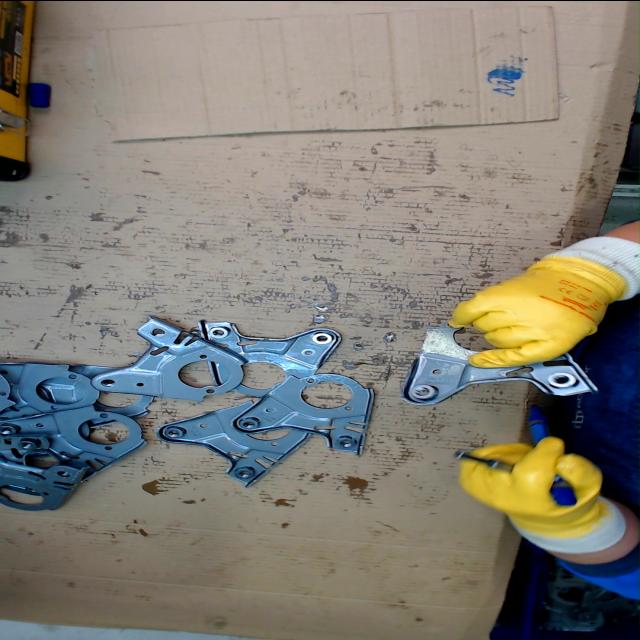hands: (446, 254, 622, 368), (458, 434, 608, 534)
